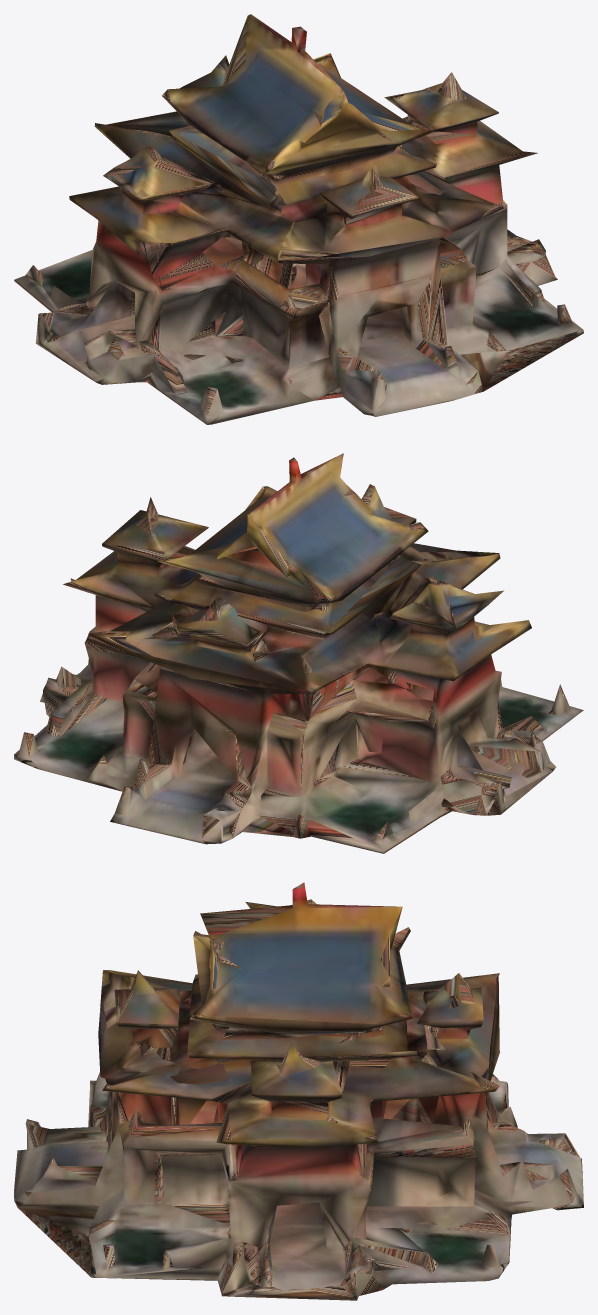
Rendered from bq_array_hall.far.glb.
The picture shows the model from 3 angles, top to bottom: view 1: azimuth 30°, elevation 25°; view 2: azimuth 150°, elevation 25°; view 3: azimuth 270°, elevation 25°; orthographic projection. The views are drawn at different scales.
Bounding box in the file's own units: 1.99 × 1.15 × 1.99.
1 material, 1 textured.
